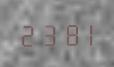eight: (56, 20, 74, 46)
one: (75, 19, 93, 46)
three: (37, 20, 55, 47)
two: (18, 20, 36, 47)
